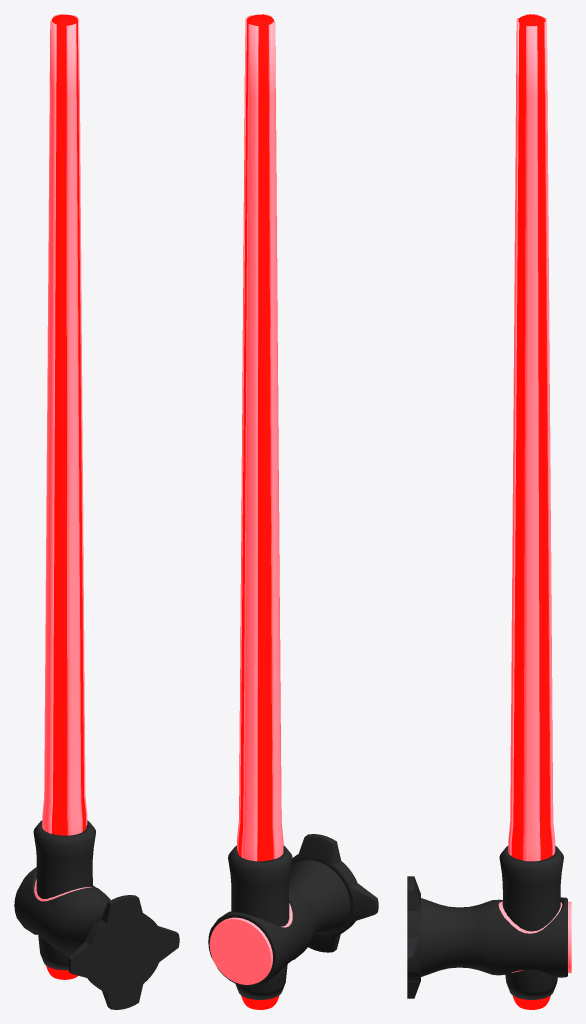
Rendered from LightSabreArm1.fbx.
3 renders of one model, left to right at view 1: azimuth 30°, elevation 25°; view 2: azimuth 150°, elevation 25°; view 3: azimuth 270°, elevation 25°, orthographic. The views are drawn at different scales.
Visible parts, largest first — view 1: Ja, Cylinder.005, Cylinder.002, Cylinder.011, Cylinder.005_Curve; view 2: Ja, Cylinder.005, Cylinder.011, Cylinder.005_Curve, Cylinder.007, Cylinder.002; view 3: Ja, Cylinder.005, Cylinder.011, Cylinder.005_Curve, Cylinder.002, Cylinder.007.
Boxes of the visible parts, x1,y1,x2,y2 form: Ja: (42, 14, 87, 835); Cylinder.005: (46, 14, 85, 979); Cylinder.002: (68, 895, 179, 1009); Cylinder.011: (14, 867, 110, 956); Cylinder.005_Curve: (33, 820, 95, 970); Ja: (237, 14, 283, 861); Cylinder.005: (238, 14, 279, 1009); Cylinder.011: (208, 860, 349, 987); Cylinder.005_Curve: (228, 845, 292, 999); Cylinder.007: (209, 903, 292, 984); Cylinder.002: (291, 834, 378, 952); Ja: (508, 14, 555, 861); Cylinder.005: (511, 14, 551, 1009); Cylinder.011: (421, 897, 567, 977); Cylinder.005_Curve: (499, 846, 563, 999); Cylinder.002: (407, 876, 420, 998); Cylinder.007: (498, 901, 571, 973).
Bounding box in the file's own units: 1273 × 10640 × 1609.
